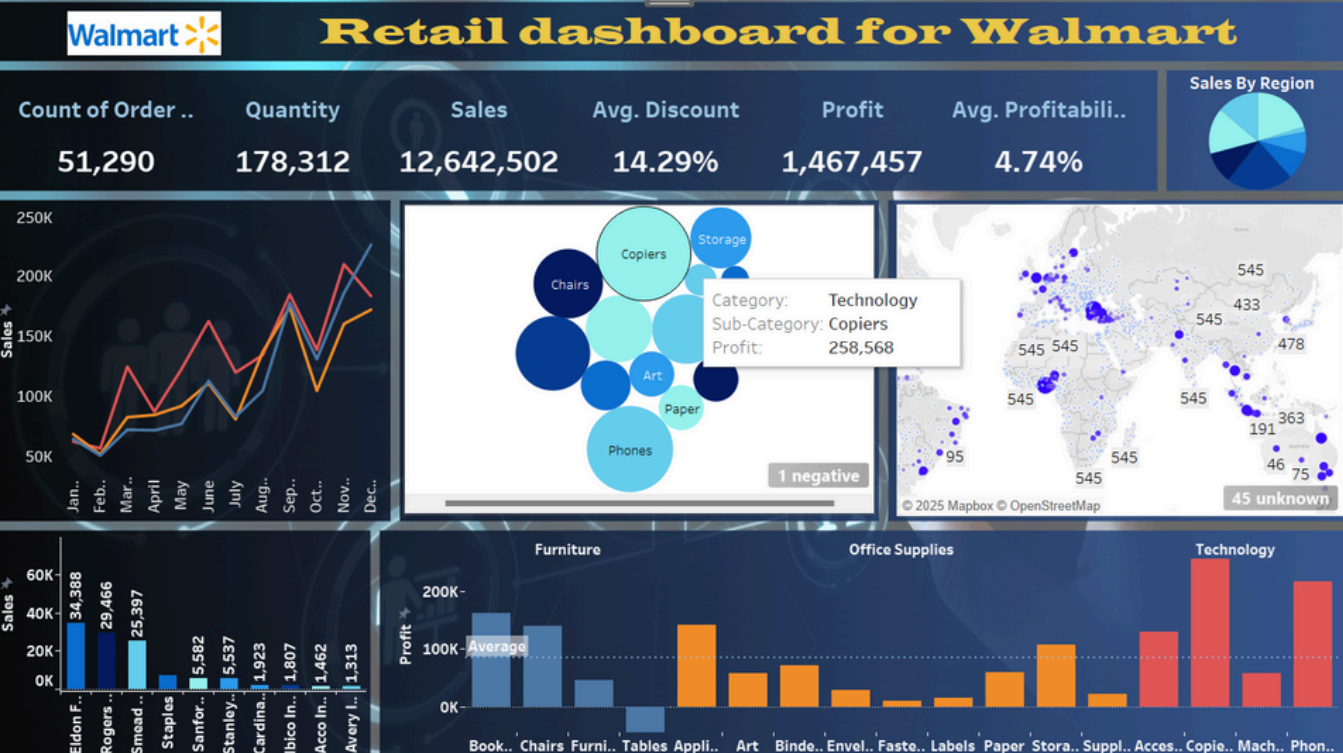

This screenshot's page, from the dashboard's own definition file:
{"tool":"tableau","page":{"name":"Dashboard 1","canvas":[1000,1000],"units":"permille","ordinal":0},"visuals":[{"type":"text","box":[204.6,12.5,730.9,93.5]},{"type":"image","param":"Image/walmart_image.jpg","box":[52,33.7,192.8,56.1]},{"type":"worksheet","title":"Sales area by region","mark":"Pie","box":[825,47.4,129.6,301.8]},{"type":"text","box":[832.2,112.2,107.9,23.7]},{"type":"worksheet","title":"KPI","mark":"Automatic","box":[60.5,129.7,757.9,140.9]},{"type":"worksheet","title":"Rank by discount","mark":"Automatic","box":[649.3,278.1,298,394]},{"type":"worksheet","title":"Sub category by profit","mark":"Circle","box":[321.7,279.3,312.5,389]},{"type":"worksheet","title":"Sales Growth over the years","mark":"Automatic","rows":["Sales"],"cols":["Order date"],"box":[49.3,280.6,258.6,389]},{"type":"worksheet","title":"most saled products","mark":"Automatic","rows":["Sales"],"cols":["Product Name"],"box":[50,698.2,246.1,276.8]},{"type":"worksheet","title":"Sub catogory above average","mark":"Automatic","rows":["Profit"],"cols":["Category","Sub-Category"],"box":[310.5,700.8,632.9,275.6]}]}

Visuals, with their boxes on the dashboard's canvas, which has no fixed pixel size, in thousandths of its width and height (x1, y1, x2, y2). These are canvas units, not pixel positions in the 1343x753 screenshot, which may show the page scaled, cropped or inside an application window:
text: 205/12/936/106
image: 52/34/245/90
"Sales area by region" worksheet (Pie marks): 825/47/955/349
text: 832/112/940/136
"KPI" worksheet: 60/130/818/271
"Rank by discount" worksheet: 649/278/947/672
"Sub category by profit" worksheet (Circle marks): 322/279/634/668
"Sales Growth over the years" worksheet: 49/281/308/670
"most saled products" worksheet: 50/698/296/975
"Sub catogory above average" worksheet: 310/701/943/976
